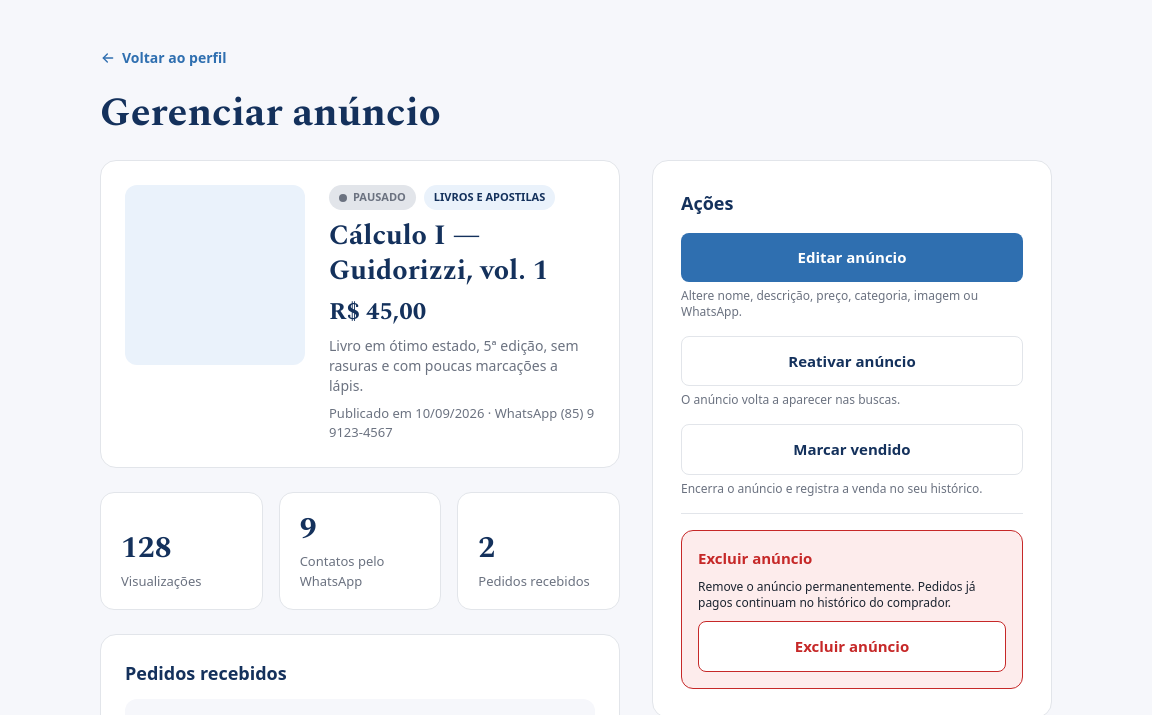
it: Gerenciar anúncio (05d) › excluir é bloqueado com pedido pago ou com retirada combinada em aberto (RN-ANU-09)
Check: the heading "Cálculo I — Guidorizzi, vol. 1" is shown, box [329,214,548,292]
Click the button "Excluir anúncio".
click(852, 647)  # box [698,621,1006,672]
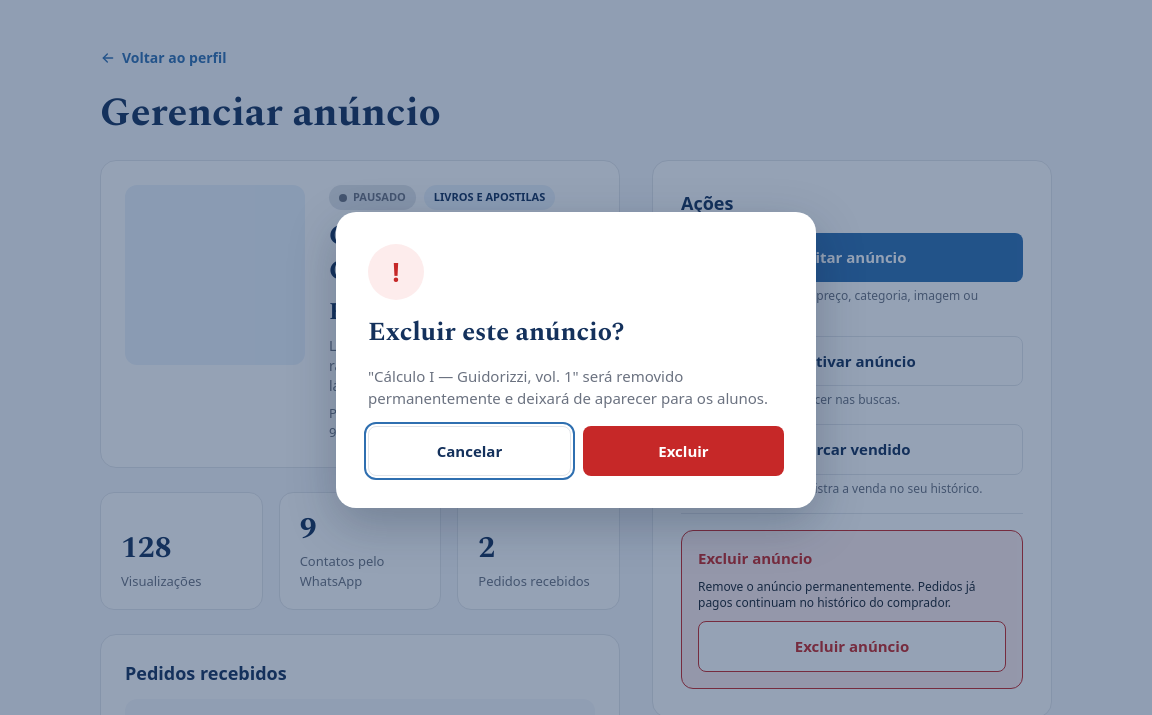
Click the button "Excluir".
click(684, 451)  # box [583,426,784,476]
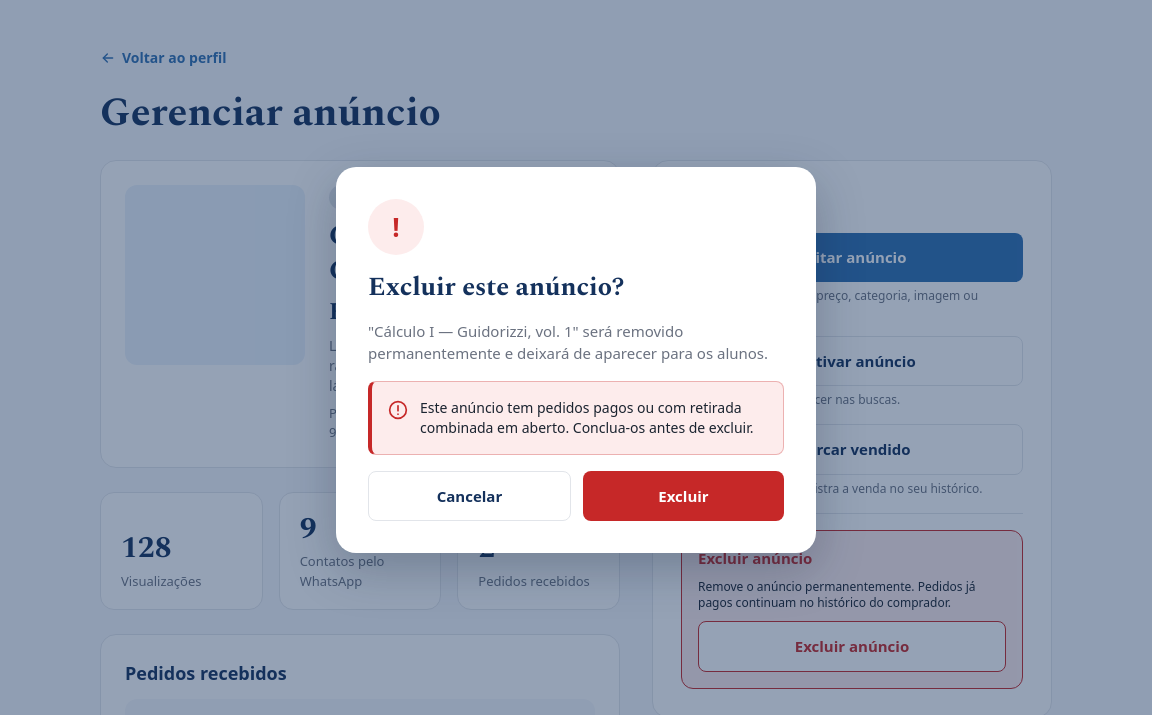
Check: the dialog is shown, box [336,167,816,553]
Check: the message shows "pedidos pagos ou com retirada combinada em aberto", box [420,398,754,436]
